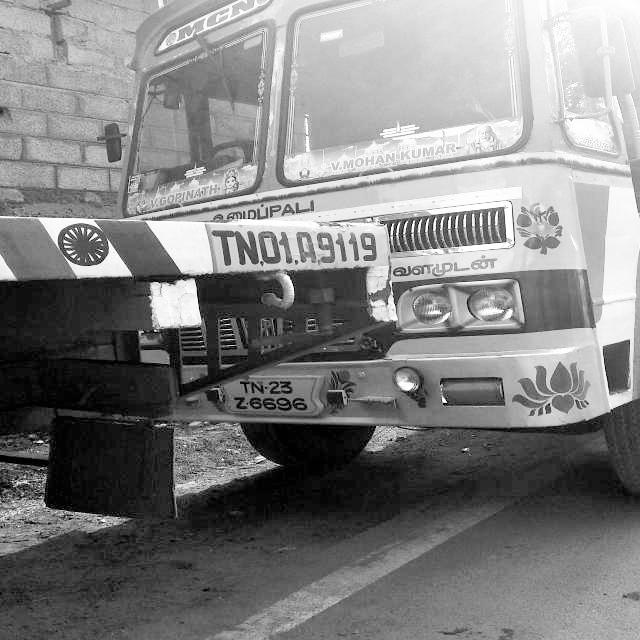HCV: (133, 0, 640, 496)
